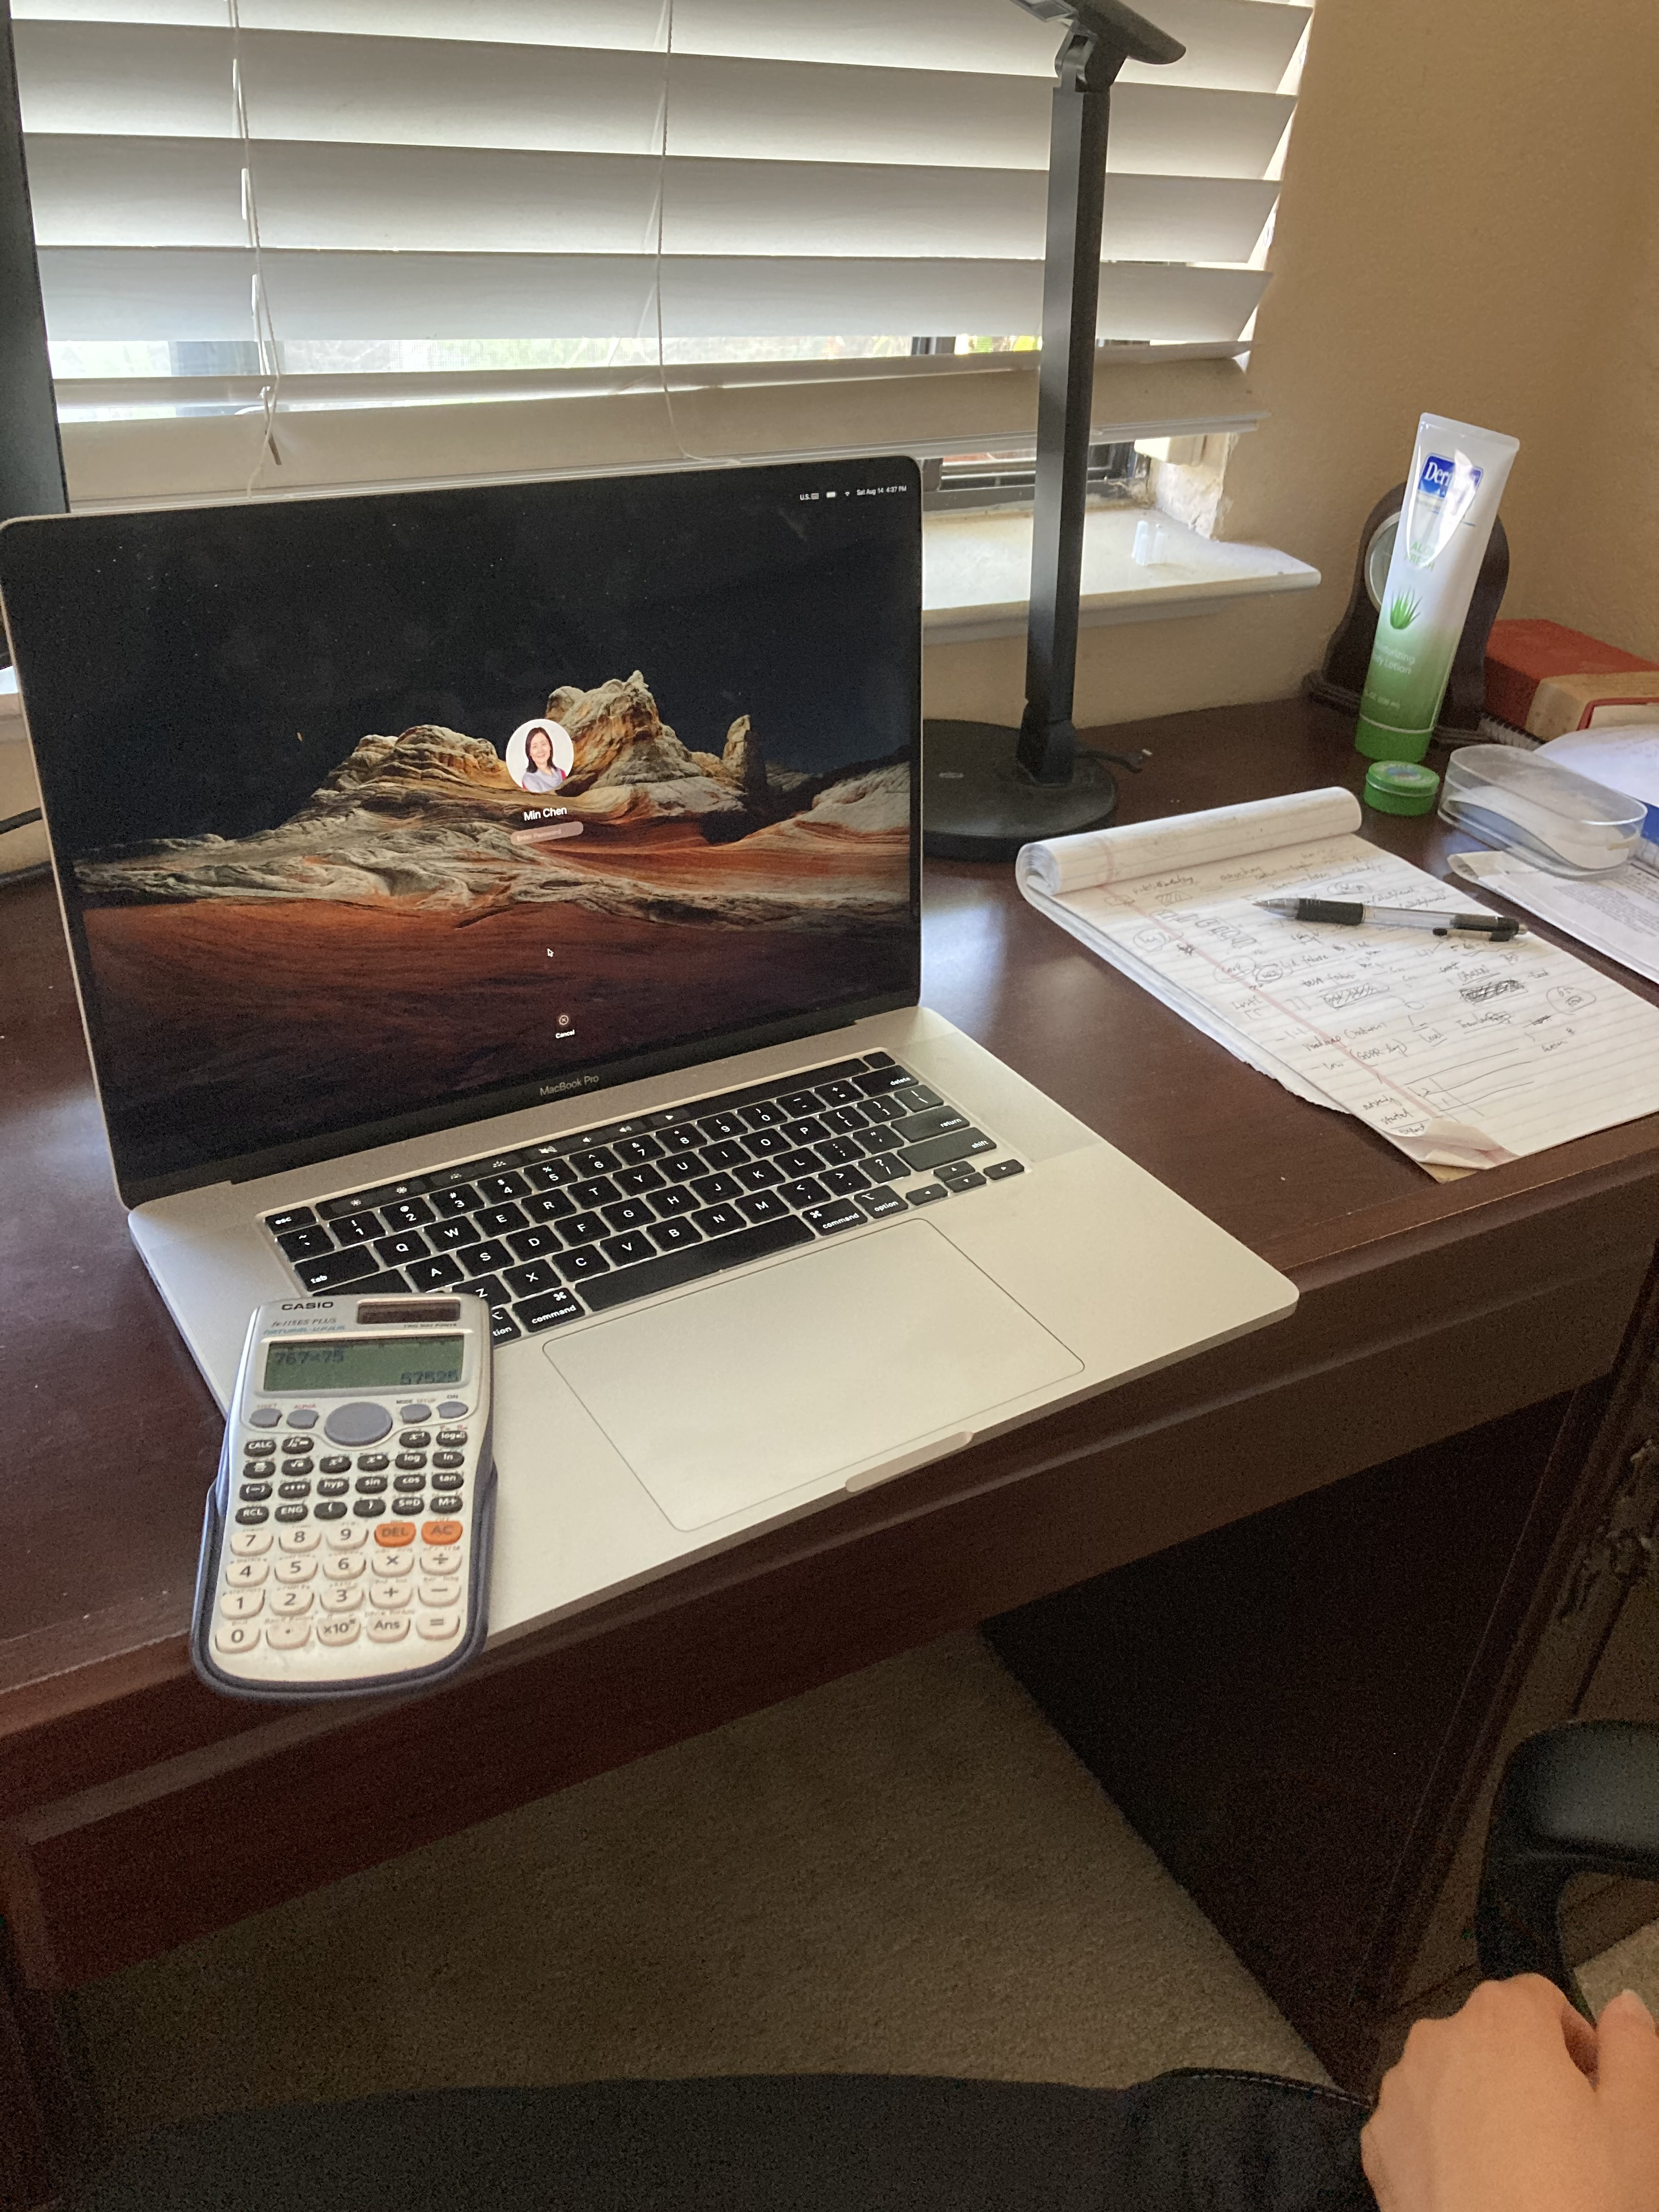Calculator: (185, 1296, 511, 1698)
